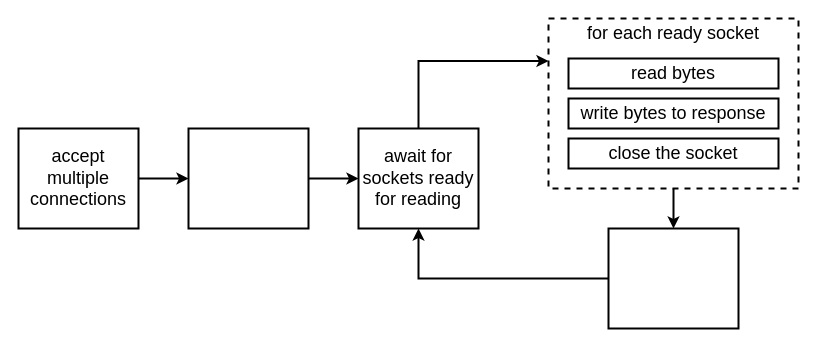
This 816x346 diagram has some shape labels left out. The box of each missing label's shape, as (x1, y1, x2, y2) in pixels:
put socket descriptors to array: (187, 127, 309, 229)
remove processed sockets from array: (607, 227, 739, 329)
